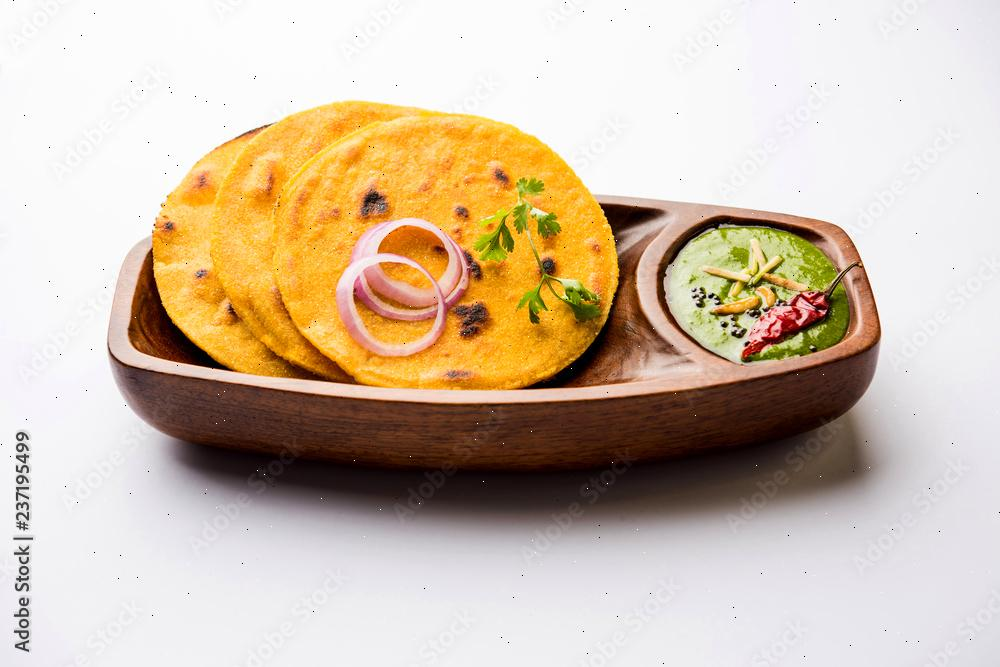saag: (669, 220, 855, 364)
